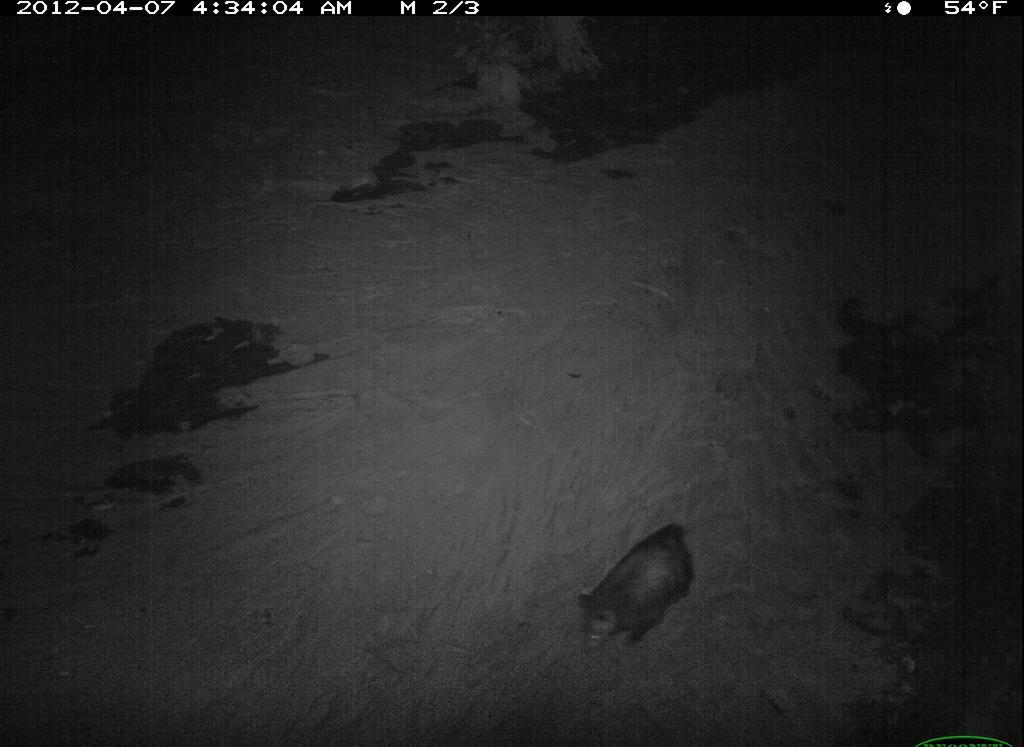opossum: (571, 520, 725, 683)
